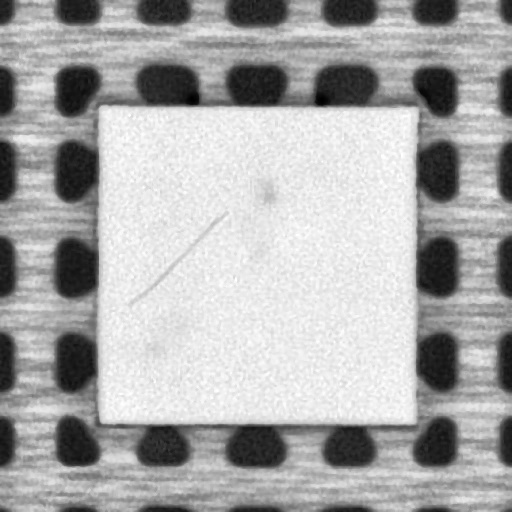DIE_CRACK: (130, 211, 225, 304)
